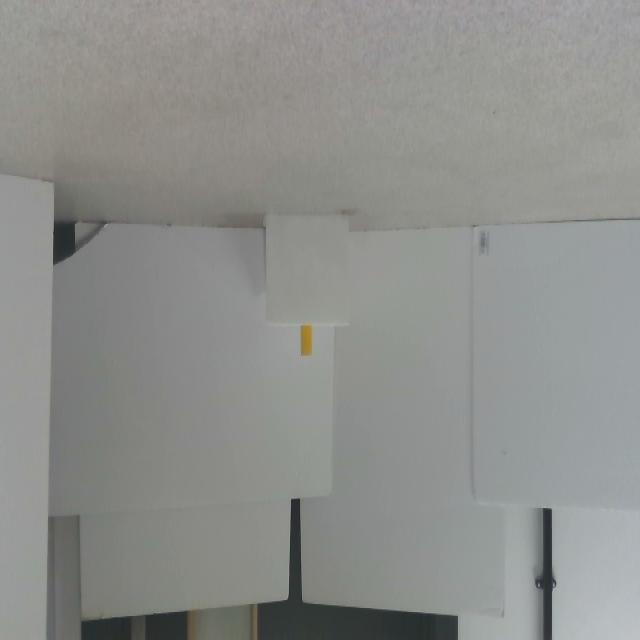yellow_cylinder: (300, 325, 312, 357)
